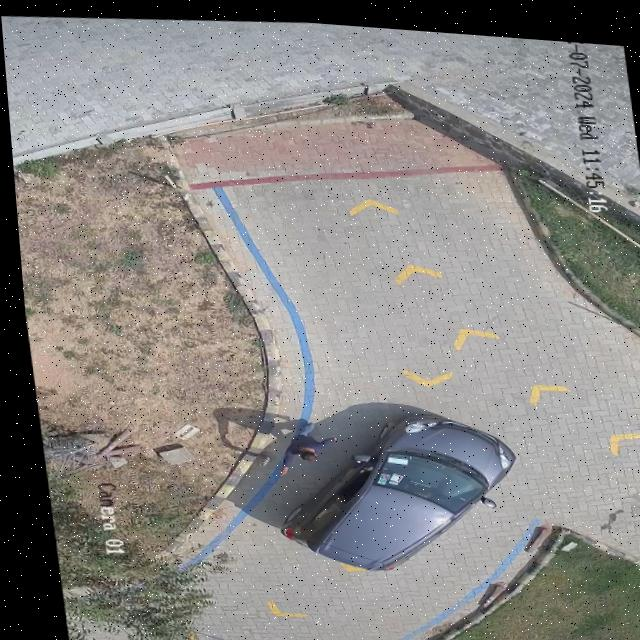car: (269, 410, 510, 568)
